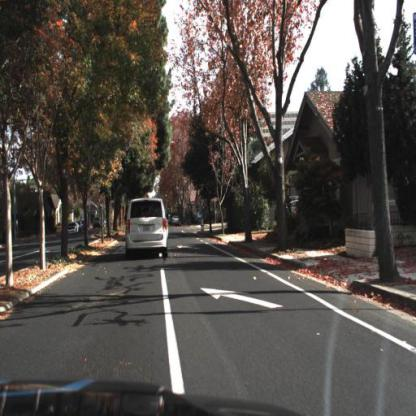car: (123, 194, 171, 262)
